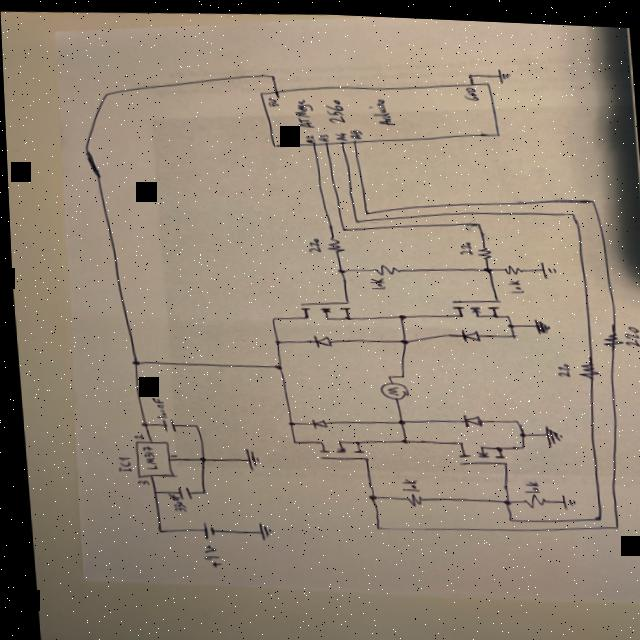capacitor: (167, 484, 185, 499), (155, 416, 171, 431)
diode: (455, 409, 479, 425), (454, 324, 477, 340), (307, 331, 329, 346), (303, 414, 323, 428)
ground: (536, 419, 560, 444), (238, 445, 256, 469), (250, 520, 269, 540), (527, 313, 547, 332), (535, 256, 554, 276), (553, 488, 571, 506), (494, 63, 510, 81)
junction: (96, 88, 115, 99), (495, 495, 507, 502), (584, 509, 596, 516), (124, 359, 137, 365), (264, 71, 276, 77), (561, 206, 573, 212), (393, 310, 403, 317), (280, 418, 290, 425), (478, 262, 488, 269), (331, 265, 342, 271), (512, 427, 523, 433), (268, 336, 277, 343), (361, 491, 371, 497), (268, 362, 278, 368), (394, 435, 404, 441), (394, 335, 404, 341), (192, 455, 202, 461), (504, 329, 514, 335), (499, 513, 509, 519), (583, 193, 593, 199), (391, 416, 400, 422), (135, 421, 144, 427), (511, 440, 520, 446), (393, 370, 402, 376), (500, 319, 510, 324), (605, 520, 615, 525), (469, 218, 479, 223), (145, 488, 153, 494), (264, 314, 273, 319), (285, 437, 294, 442), (336, 224, 344, 229), (367, 522, 375, 527), (150, 527, 158, 532), (507, 414, 515, 419), (464, 69, 472, 73), (193, 489, 201, 493), (380, 371, 388, 375), (188, 422, 194, 426), (500, 310, 506, 314)
resistor: (515, 488, 542, 505), (367, 260, 398, 274), (572, 357, 594, 375), (321, 233, 341, 251), (497, 259, 520, 272), (400, 488, 418, 504), (598, 327, 617, 342), (471, 242, 488, 256)
source: (193, 520, 210, 539)
text: (289, 96, 316, 127), (364, 95, 392, 124), (319, 95, 345, 122), (194, 542, 217, 567), (617, 319, 639, 343), (145, 395, 163, 418), (135, 445, 151, 469), (161, 492, 181, 511), (109, 454, 127, 472), (501, 274, 521, 290), (459, 82, 477, 99), (393, 474, 413, 489), (515, 475, 534, 490), (364, 274, 382, 288), (551, 357, 566, 373), (342, 126, 361, 138), (303, 235, 318, 250), (455, 238, 469, 252), (330, 128, 346, 139), (301, 131, 317, 141), (263, 94, 277, 105), (312, 131, 329, 140), (131, 478, 144, 485), (127, 432, 138, 439), (164, 452, 172, 456)
transistor: (291, 295, 351, 320), (449, 435, 502, 463), (309, 434, 364, 460), (446, 292, 499, 316)
